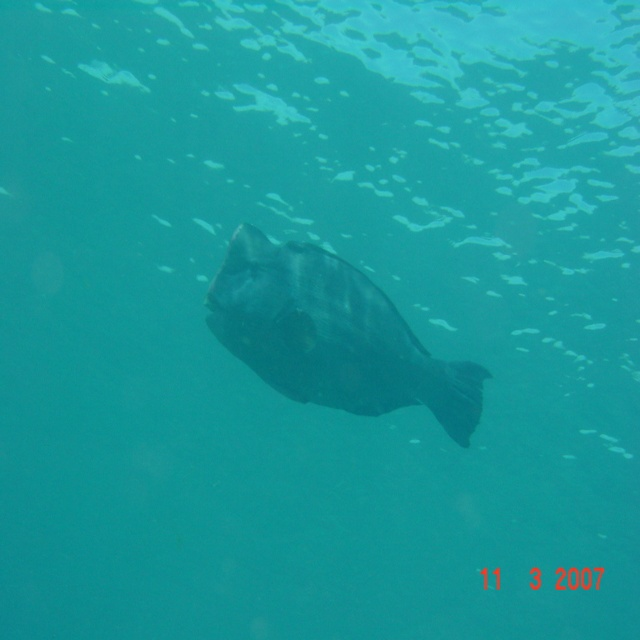Fish: (189, 239, 493, 467)
